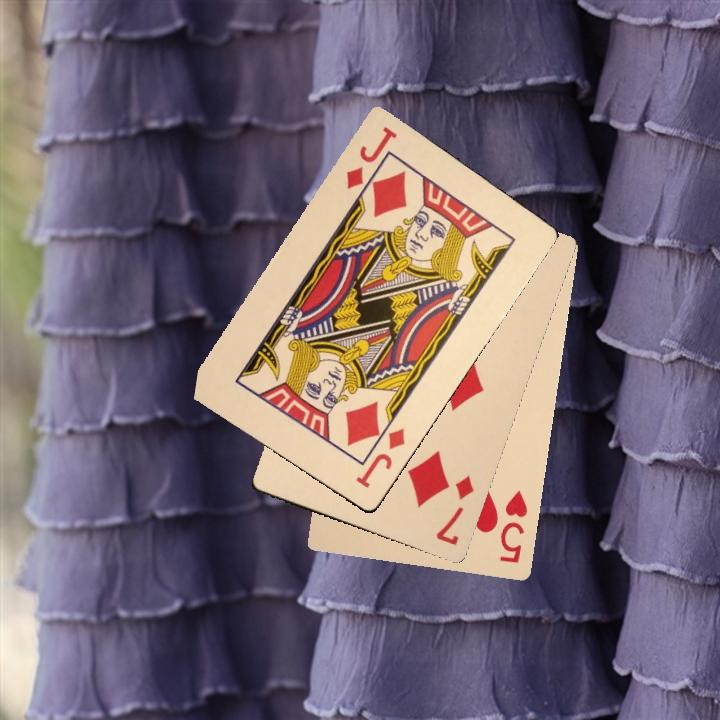5h: (495, 486, 530, 566)
7d: (431, 471, 477, 548)
Jd: (342, 122, 400, 204), (351, 424, 408, 491)
